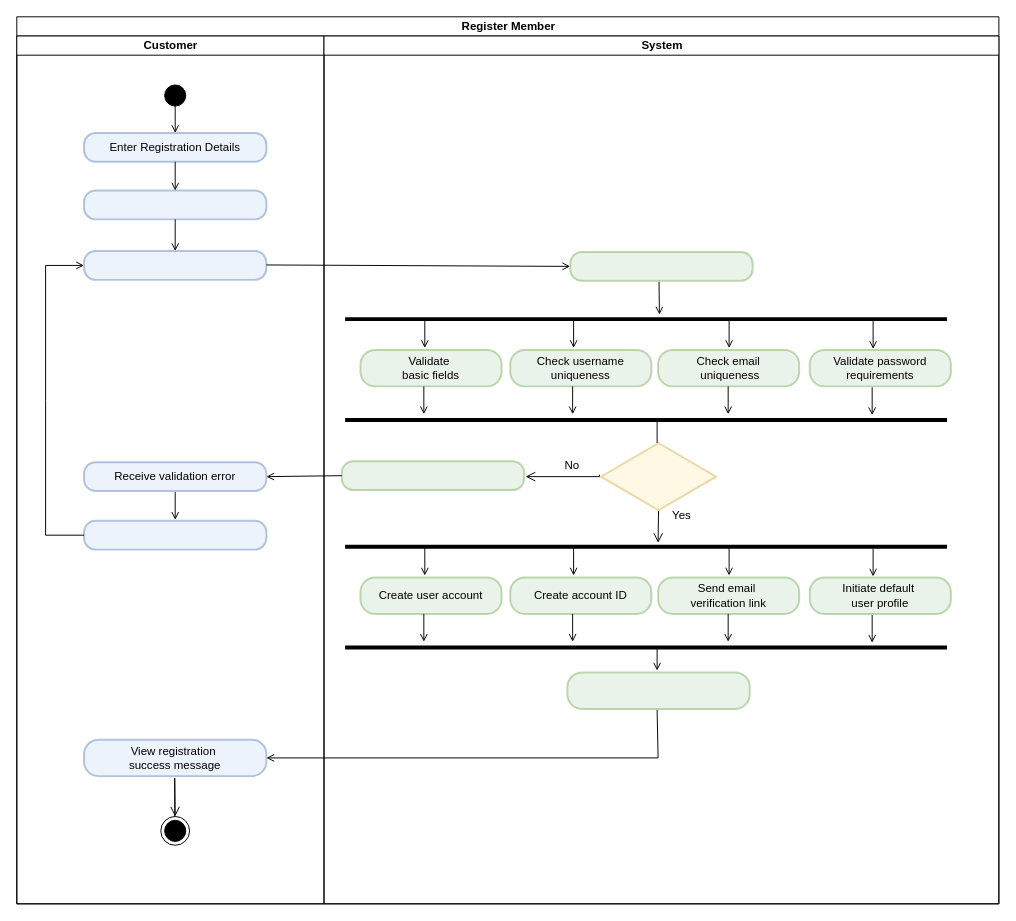
Image size: 1016x921. Some labels were removed from this diagram. The shapes that lost their labels are listed below. From the top down, each one's centre as x and y in pixels, then its label:
At pixel 175 204: "Create Login Credentials".
At pixel 175 265: "Request registration".
At pixel 661 266: "Receive registration details".
At pixel 432 475: "Return validation error".
At pixel 658 476: "Validated ?".
At pixel 175 534: "Correct validation error".
At pixel 658 690: "Send registration success message".
